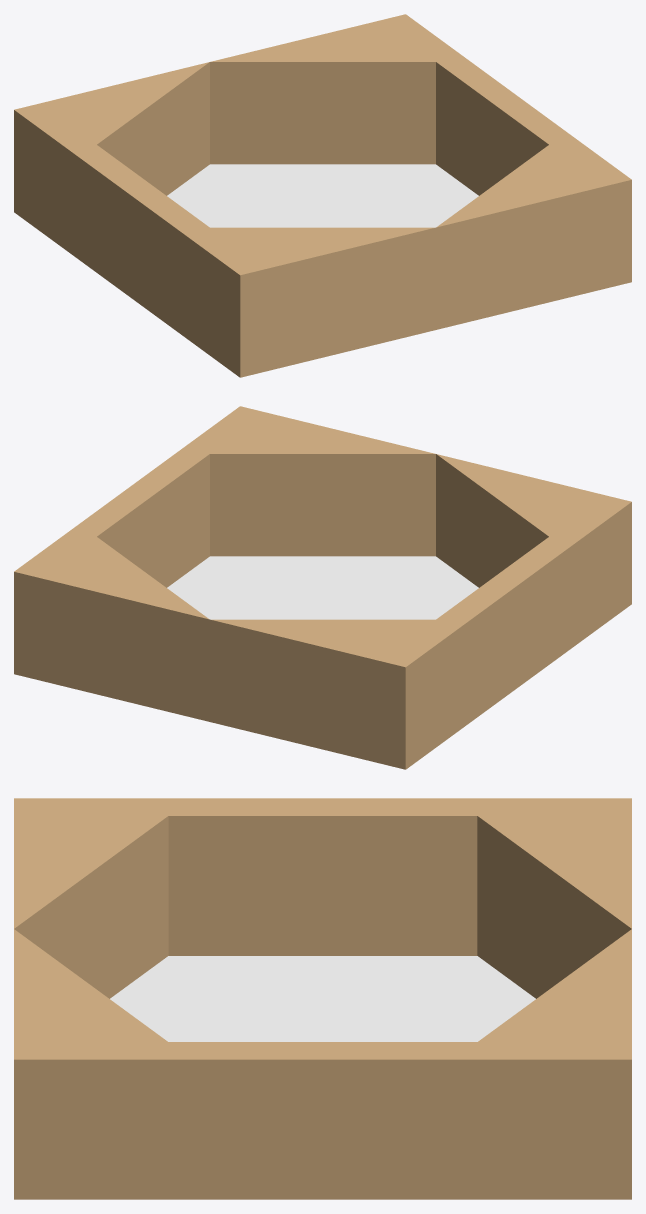
The model's file is hexagon_mold_white.gltf.
The picture shows the model from 3 angles, top to bottom: view 1: azimuth 30°, elevation 25°; view 2: azimuth 150°, elevation 25°; view 3: azimuth 270°, elevation 25°; orthographic projection. The views are drawn at different scales.
Visible parts, largest first — view 1: Mold, Base; view 2: Mold, Base; view 3: Mold, Base.
Part boxes in pixels (left/top/right/bottom): Mold: left=14, top=14, right=631, bottom=377; Base: left=167, top=164, right=478, bottom=227; Mold: left=14, top=406, right=631, bottom=769; Base: left=167, top=556, right=478, bottom=619; Mold: left=14, top=798, right=631, bottom=1199; Base: left=110, top=956, right=535, bottom=1041.
Size of the model in its own units: 0.2 by 0.05 by 0.2.
